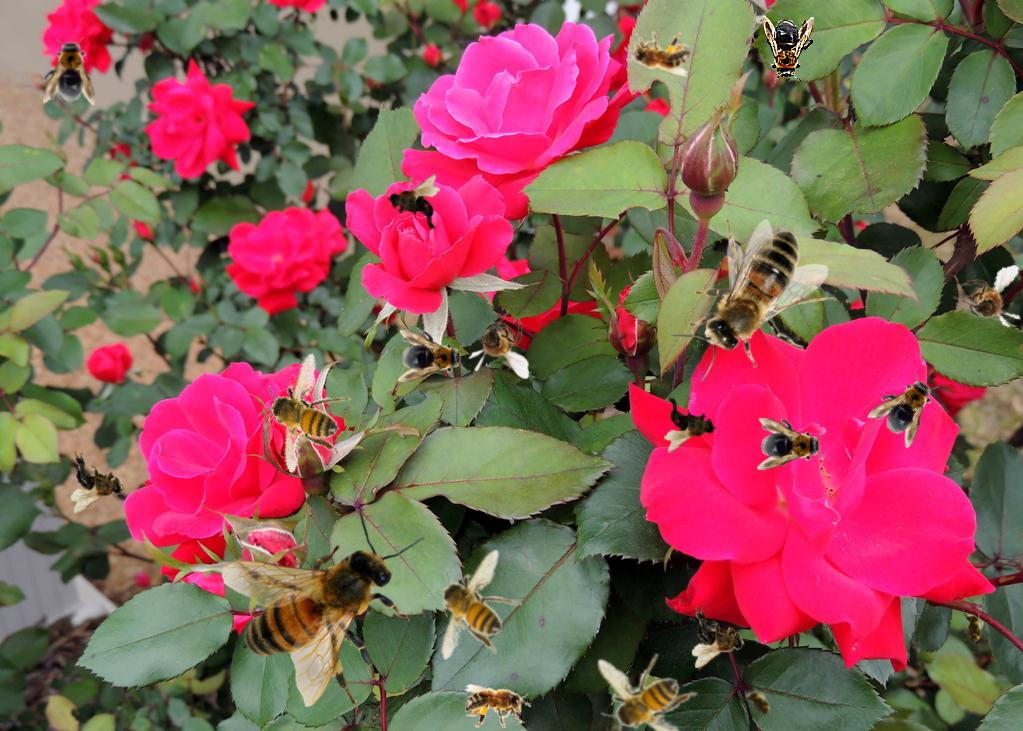Bee: (221, 508, 425, 707), (670, 219, 837, 381), (245, 345, 366, 479), (576, 636, 711, 731), (428, 549, 522, 660), (865, 363, 949, 449), (949, 264, 1023, 338), (468, 309, 529, 379), (398, 330, 466, 382), (757, 418, 825, 470), (762, 15, 814, 83), (43, 37, 95, 105), (463, 681, 533, 730), (622, 28, 692, 77), (692, 606, 745, 668), (664, 391, 717, 453), (387, 174, 440, 236), (71, 451, 124, 513), (737, 681, 781, 727), (962, 609, 984, 649)
